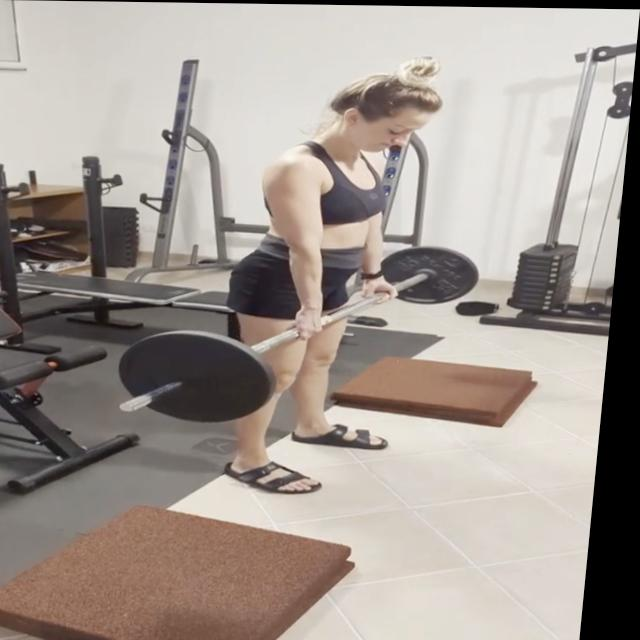barbell: (112, 325, 291, 428)
